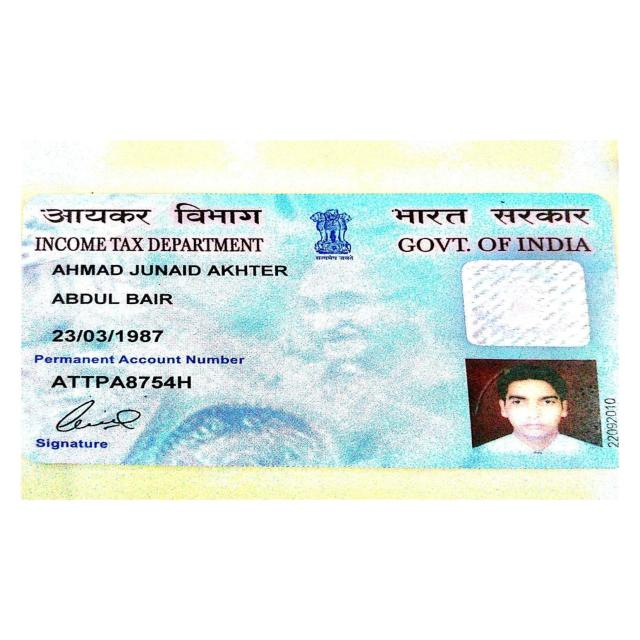pan_card: (19, 192, 621, 467)
